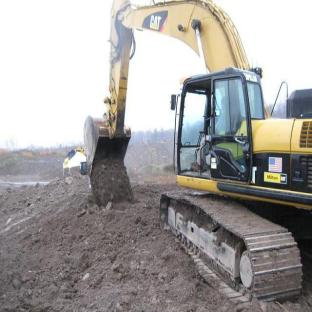ExcavationMachinery: (82, 0, 312, 310)
